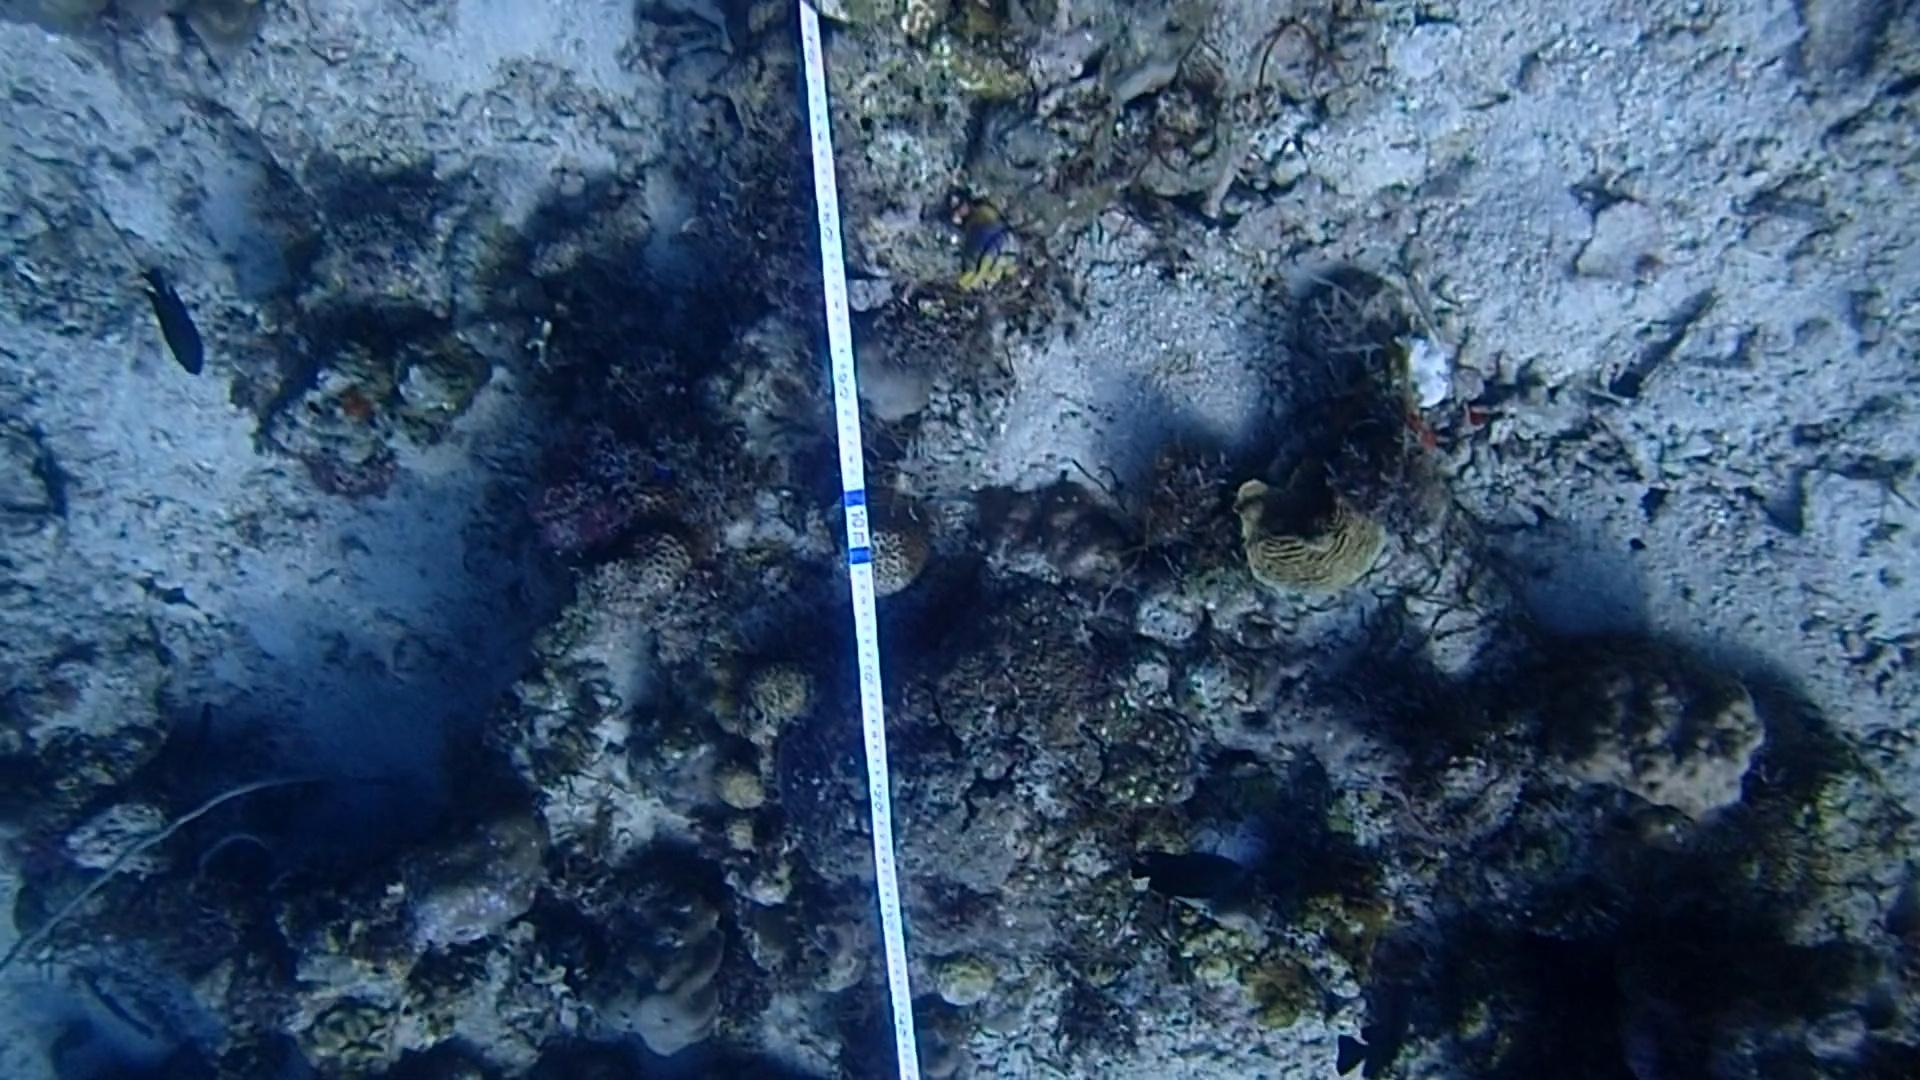Dark Fish: (135, 255, 224, 394), (1121, 843, 1253, 915), (1321, 1007, 1428, 1080)
